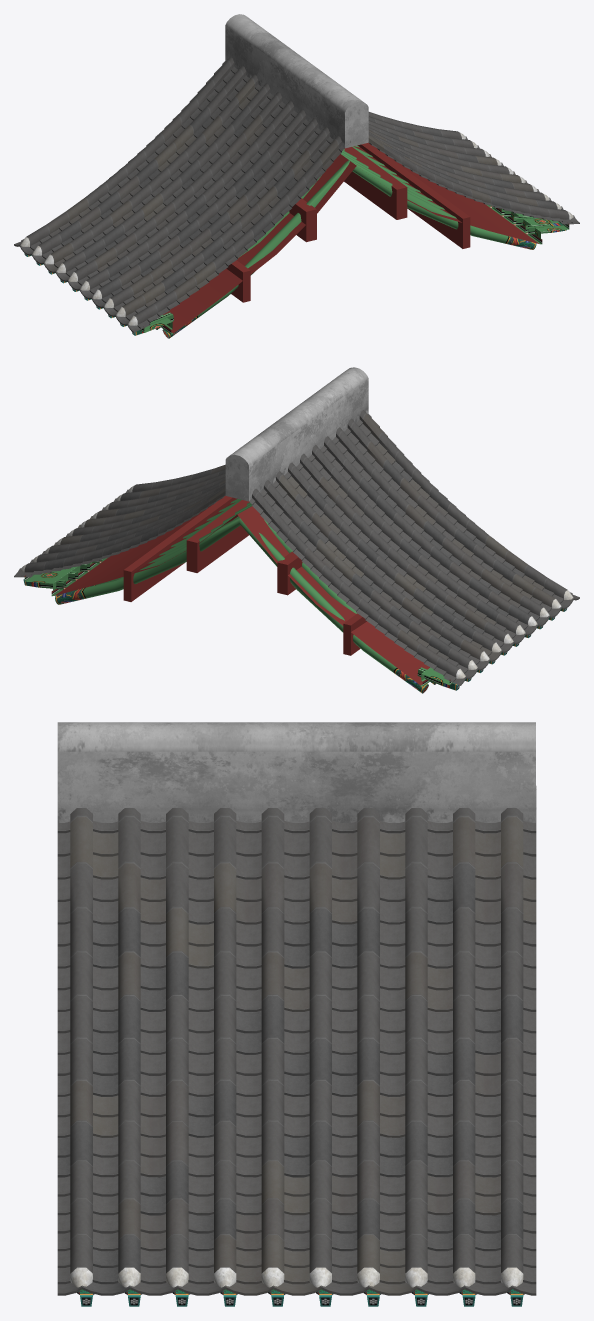
The model's file is SM_Gate_Roof03a.fbx.
3 renders of one model, top to bottom at view 1: azimuth 30°, elevation 25°; view 2: azimuth 150°, elevation 25°; view 3: azimuth 270°, elevation 25°, orthographic. The views are drawn at different scales.
Parts seen in each view (by area): view 1: SM_Gate_Roof03a; view 2: SM_Gate_Roof03a; view 3: SM_Gate_Roof03a.
Part boxes in pixels (box(x1,y1,x2,y2)): SM_Gate_Roof03a: box(14, 14, 579, 338); SM_Gate_Roof03a: box(14, 367, 579, 693); SM_Gate_Roof03a: box(57, 722, 536, 1306).
Size of the model in its own units: 647 by 300 by 273.
Materials: 2 (2 with a texture image).
